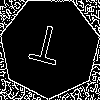T: (25, 22, 65, 75)
